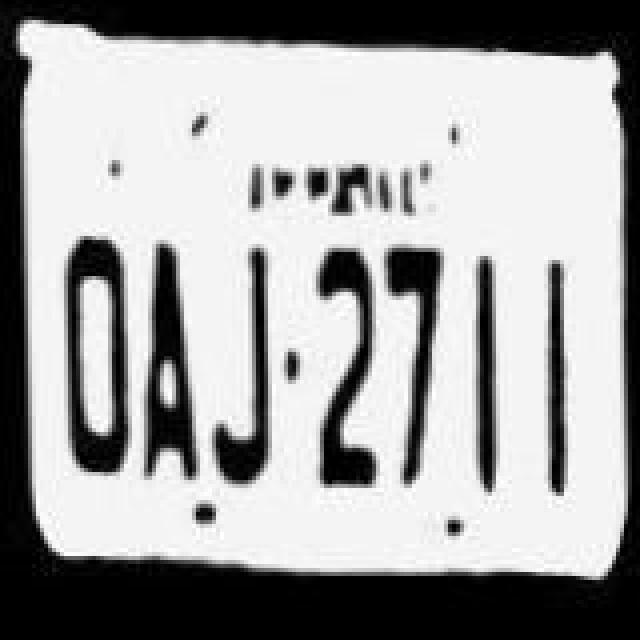1: (524, 246, 584, 498), (454, 246, 510, 506)
2: (300, 242, 384, 506)
7: (374, 240, 446, 504)
A: (134, 228, 206, 488)
J: (206, 228, 286, 492)
O: (60, 228, 136, 484)
